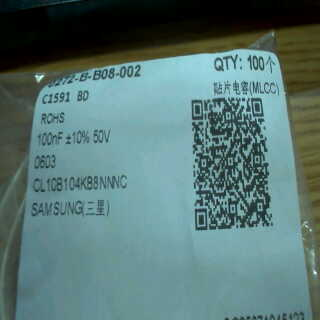100nF: (35, 127, 64, 149)
